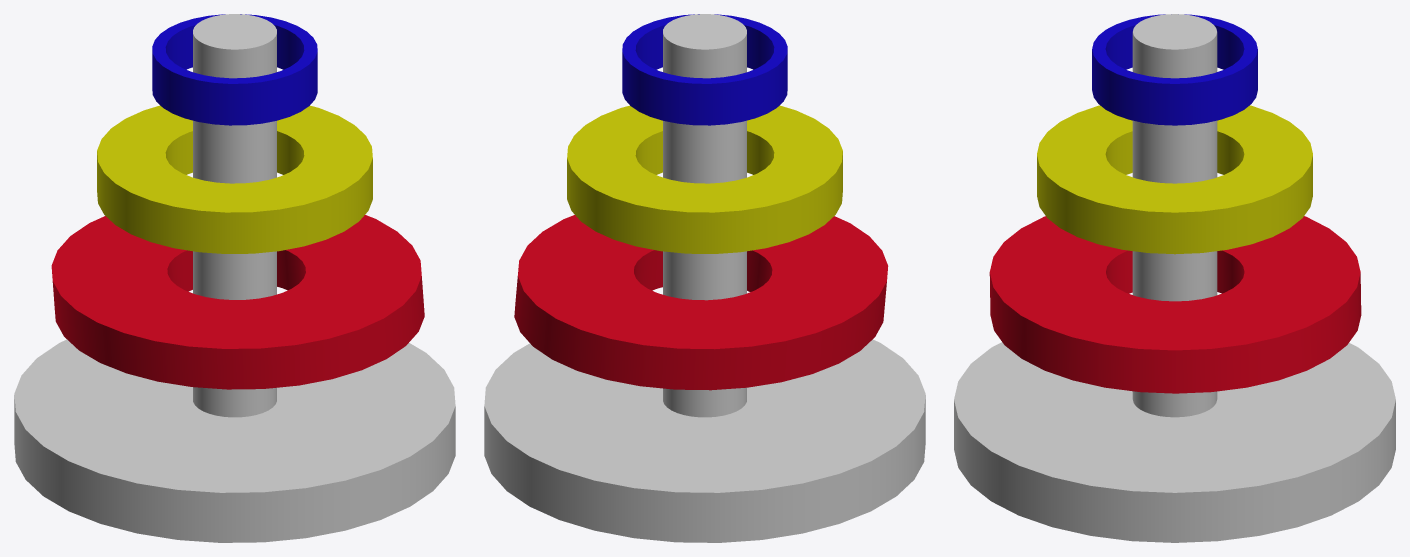
Rendered from staender_3ringe.dae.
3 renders of one model, left to right at view 1: azimuth 30°, elevation 25°; view 2: azimuth 150°, elevation 25°; view 3: azimuth 270°, elevation 25°, orthographic.
Parts seen in each view (by area): view 1: Staender, Scheibe1, Scheibe2, Scheibe3; view 2: Staender, Scheibe1, Scheibe2, Scheibe3; view 3: Staender, Scheibe1, Scheibe2, Scheibe3.
Part boxes in pixels (x1,y1,x2,y2): Staender: (14, 14, 455, 542); Scheibe1: (51, 215, 424, 389); Scheibe2: (97, 105, 372, 253); Scheibe3: (152, 14, 317, 125); Staender: (484, 14, 925, 542); Scheibe1: (514, 215, 888, 390); Scheibe2: (567, 105, 842, 253); Scheibe3: (622, 14, 787, 125); Staender: (954, 14, 1395, 542); Scheibe1: (989, 216, 1361, 393); Scheibe2: (1037, 105, 1312, 254); Scheibe3: (1092, 14, 1257, 125).
Size of the model in its own units: 0.4 by 0.4 by 0.4172.
